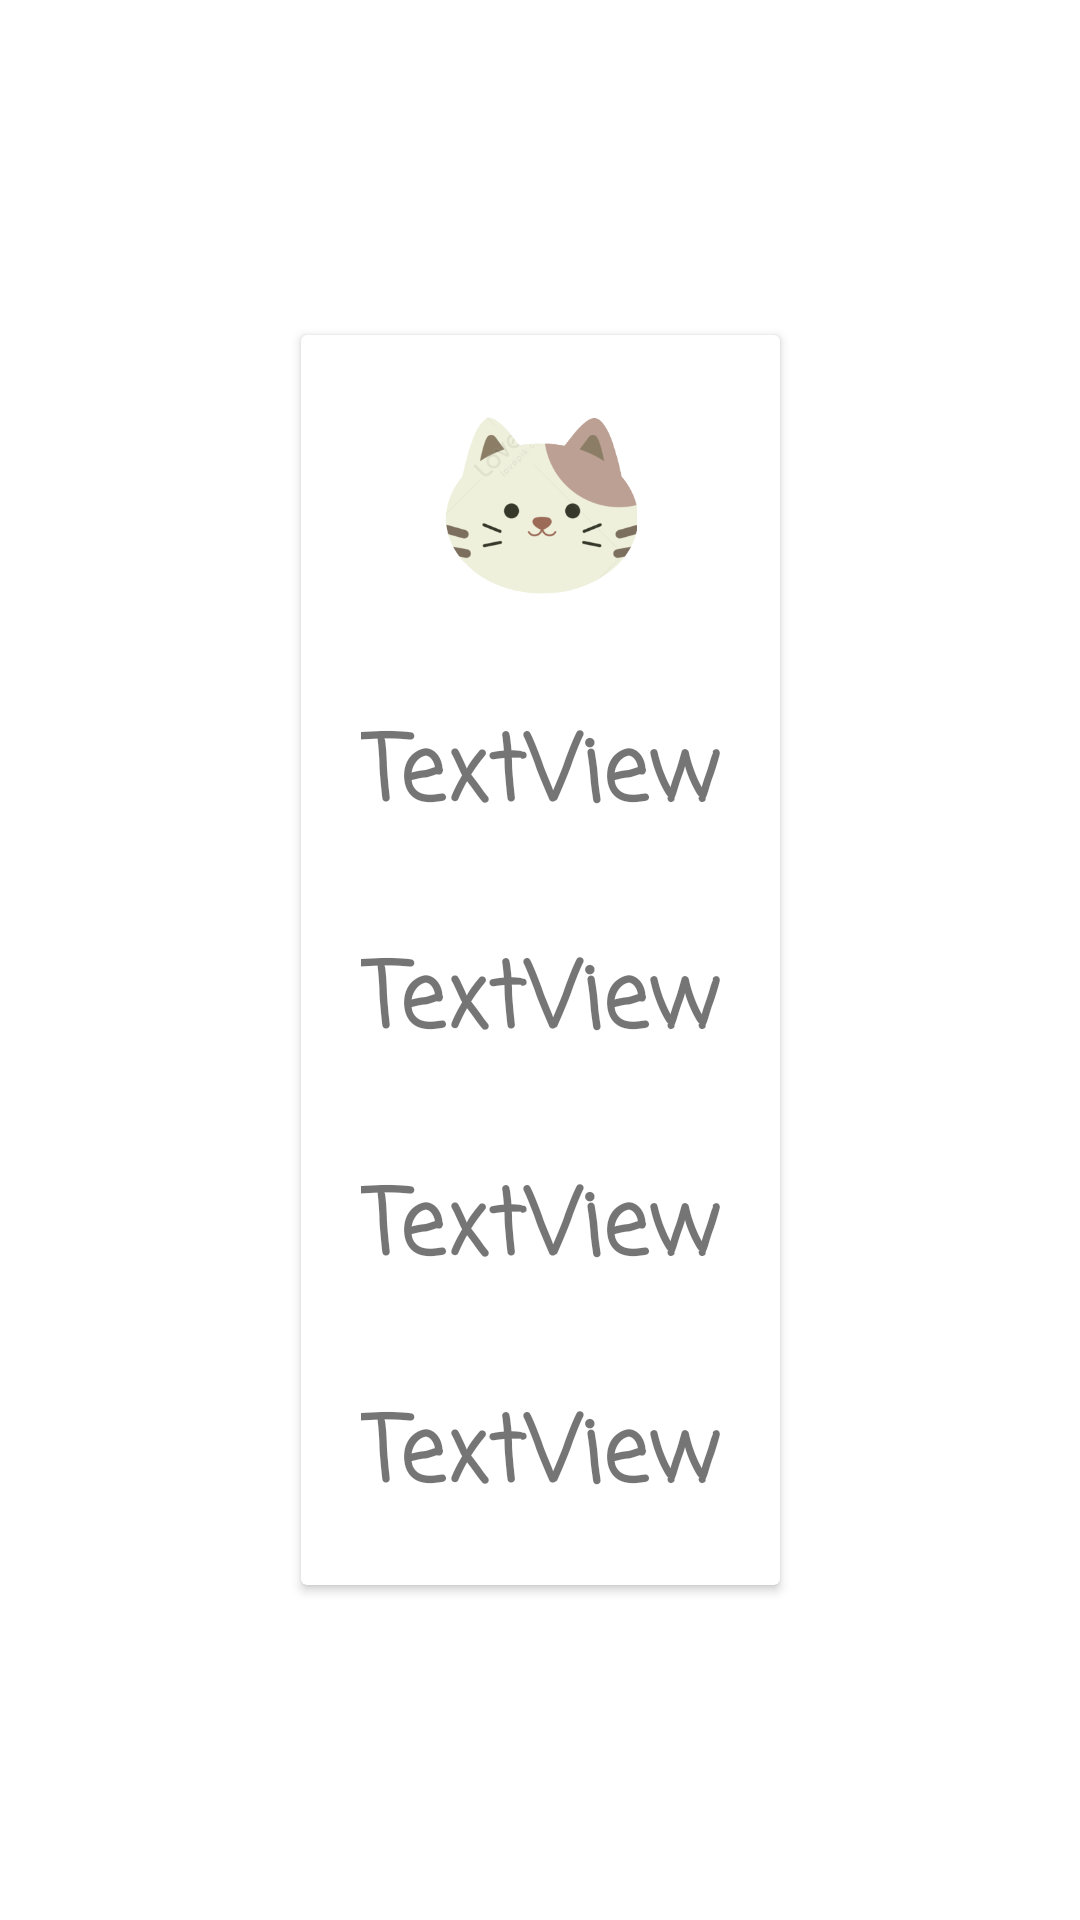

Point at icon controls on the screen. Image size 1080 × 1920, points as [x,y].
cat: [541,505]
